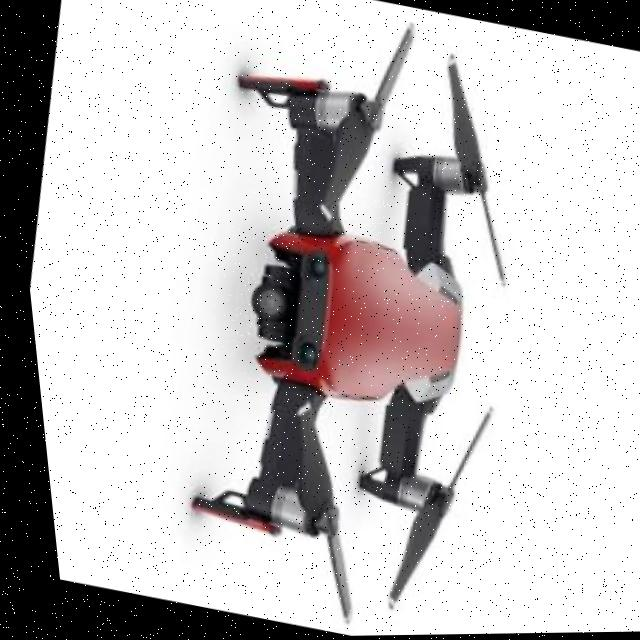drones: (103, 0, 626, 639)
